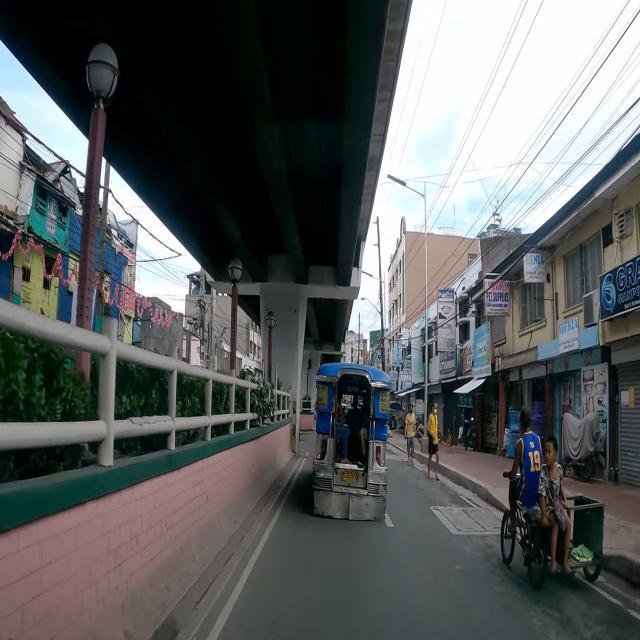jeepney: (312, 364, 392, 521)
motorcycle: (416, 416, 442, 444), (461, 414, 478, 452)
tricycle: (500, 406, 604, 584)
